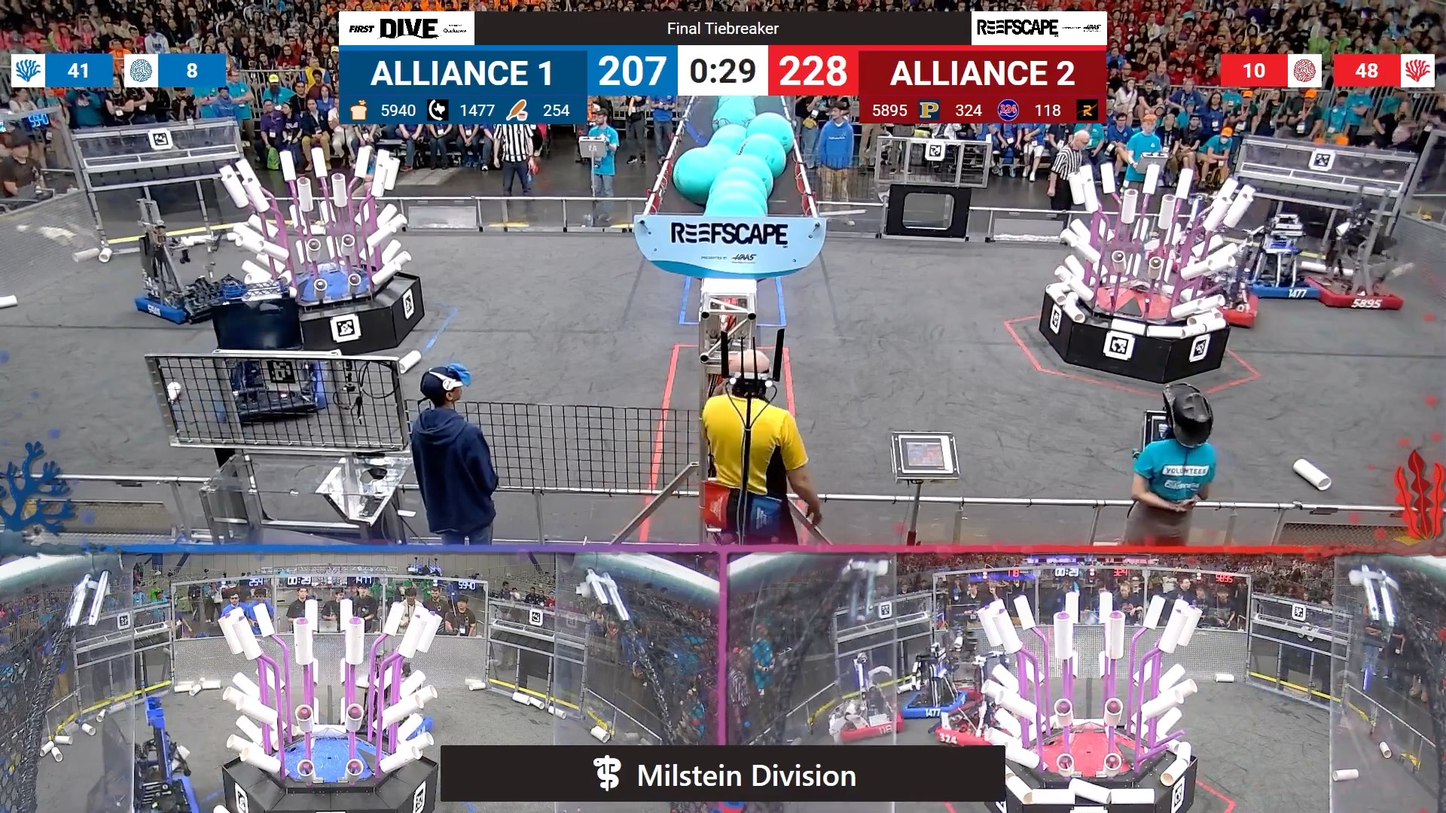bumpers: (211, 359, 331, 424), (84, 764, 205, 813), (132, 280, 247, 331), (1298, 275, 1409, 319), (1224, 271, 1323, 301), (901, 688, 974, 724), (835, 708, 909, 742), (931, 722, 1002, 750), (1211, 294, 1263, 328)
